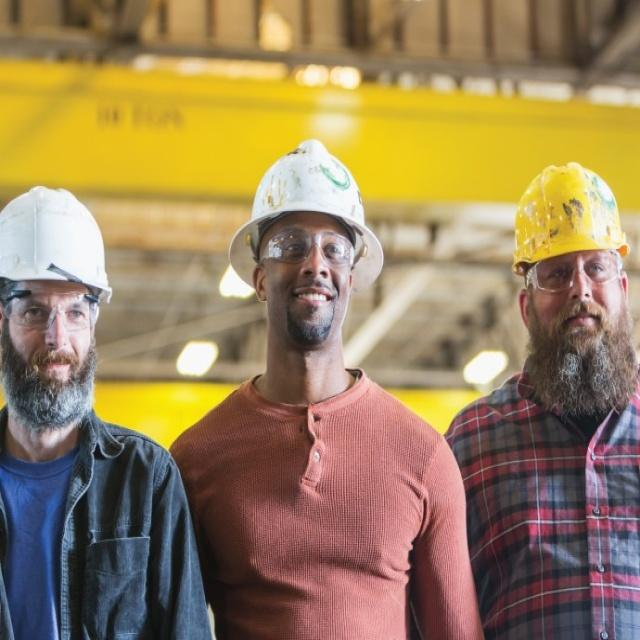helmet: (225, 184, 385, 460), (1, 249, 116, 576), (513, 216, 633, 472)
